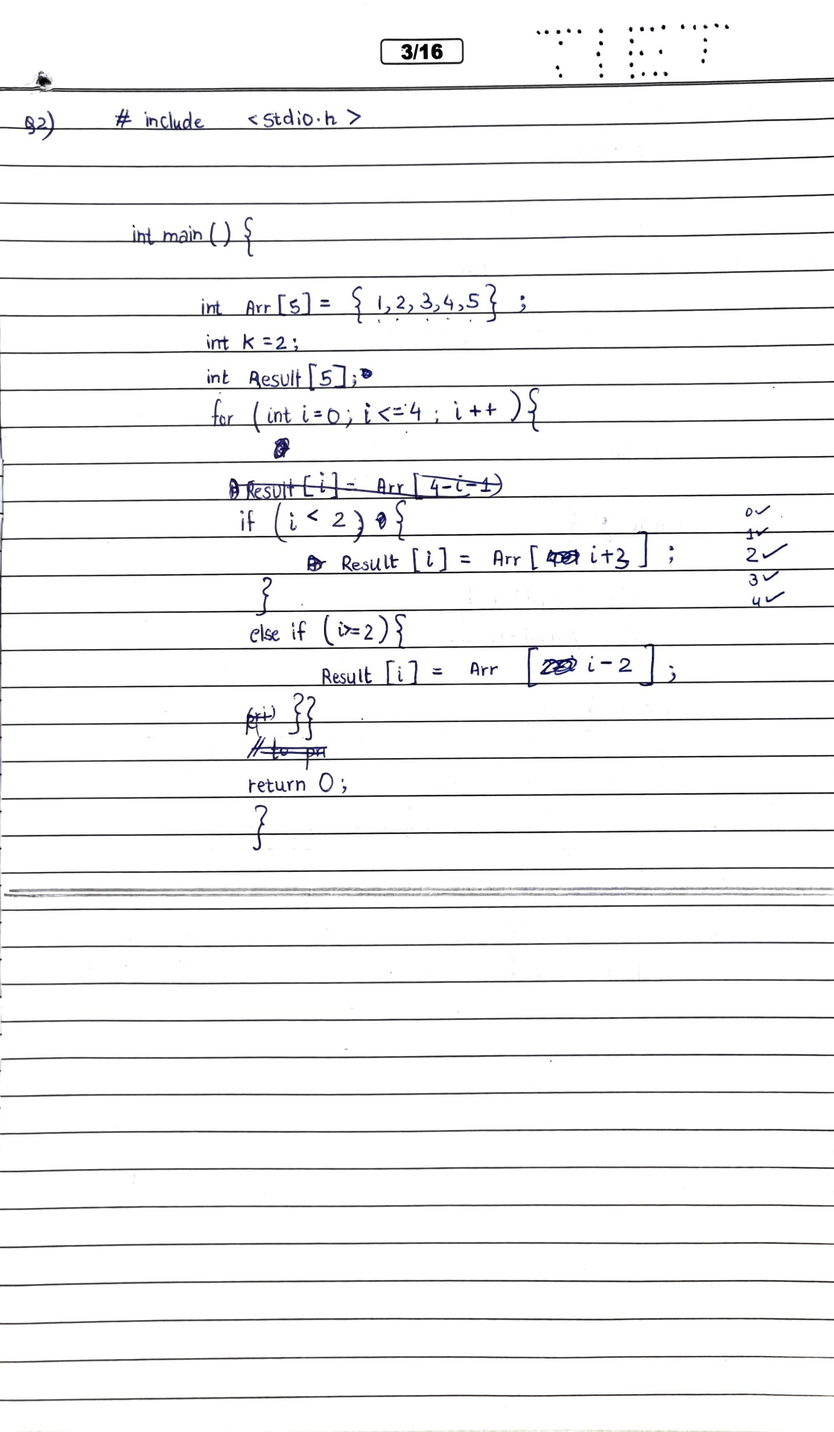cuttings: (228, 469, 507, 502), (243, 734, 329, 758), (538, 654, 582, 681), (244, 704, 279, 735), (543, 546, 583, 568), (270, 438, 294, 461), (306, 552, 328, 572), (375, 509, 391, 532), (357, 366, 377, 380)
